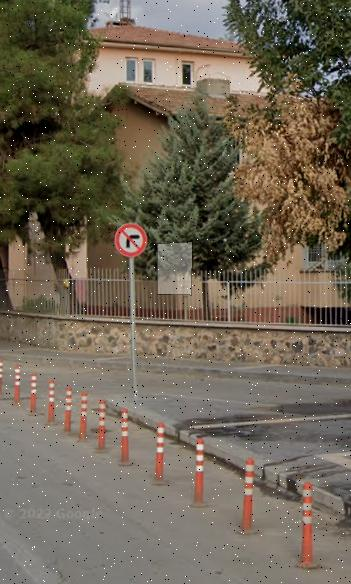rightturnsareforbidden: (115, 225, 147, 258)
